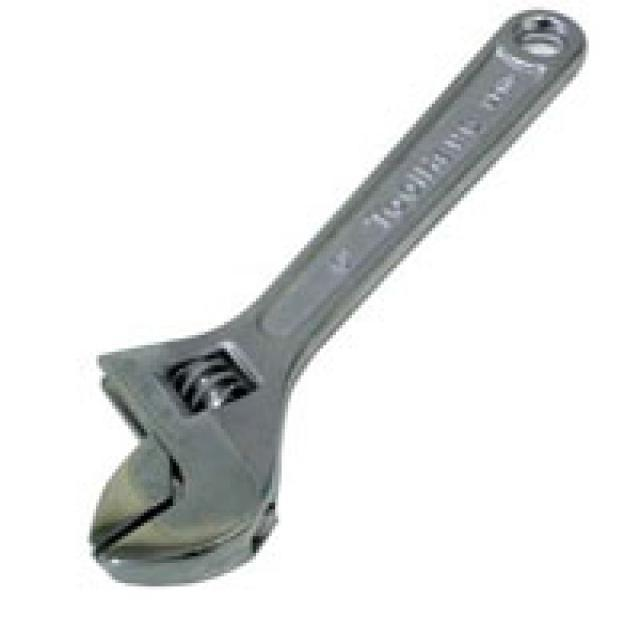wrench: (80, 0, 595, 593)
